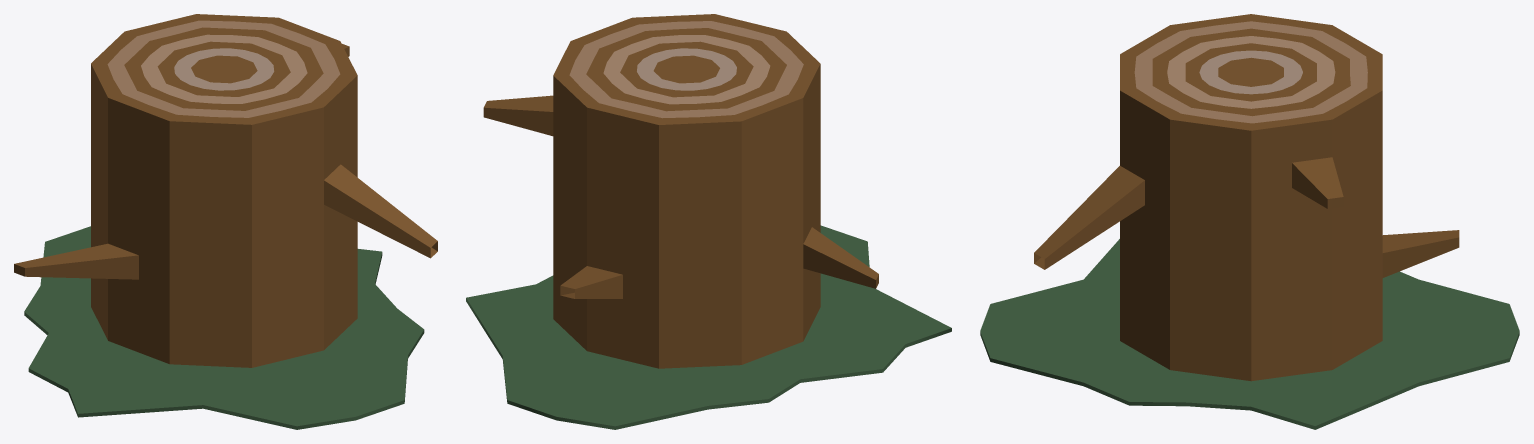
File: tronk.fbx
3 renders of one model, left to right at view 1: azimuth 30°, elevation 25°; view 2: azimuth 150°, elevation 25°; view 3: azimuth 270°, elevation 25°, orthographic. The views are drawn at different scales.
Visible parts, largest first — view 1: pCylinder1, pCylinder2; view 2: pCylinder1, pCylinder2; view 3: pCylinder1, pCylinder2.
Part boxes in pixels (x1,y1,x2,y2): pCylinder1: (14, 14, 437, 367); pCylinder2: (24, 226, 424, 429); pCylinder1: (483, 14, 878, 368); pCylinder2: (466, 225, 951, 429); pCylinder1: (1034, 14, 1459, 381); pCylinder2: (980, 239, 1519, 429).
Size of the model in its own units: 3.4 by 2.1 by 3.9.
